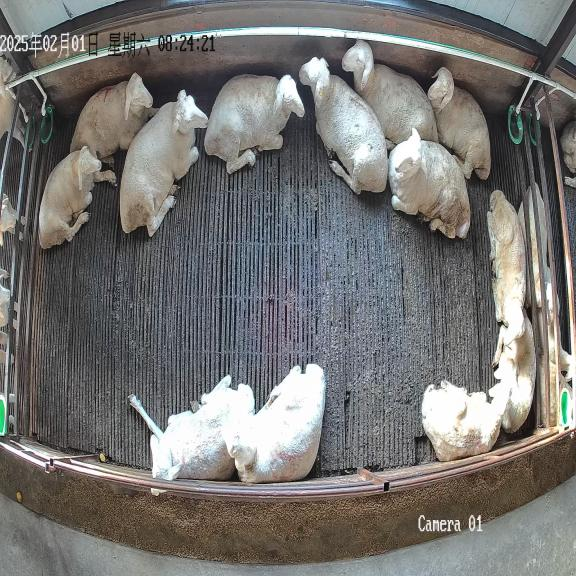lying: (128, 375, 255, 480), (120, 90, 208, 236), (221, 364, 325, 483), (299, 57, 387, 194), (342, 39, 438, 150), (421, 353, 516, 461), (204, 74, 304, 173), (388, 129, 470, 238), (70, 73, 157, 164), (39, 146, 116, 248), (428, 67, 490, 180), (487, 190, 526, 344), (492, 314, 536, 433)
